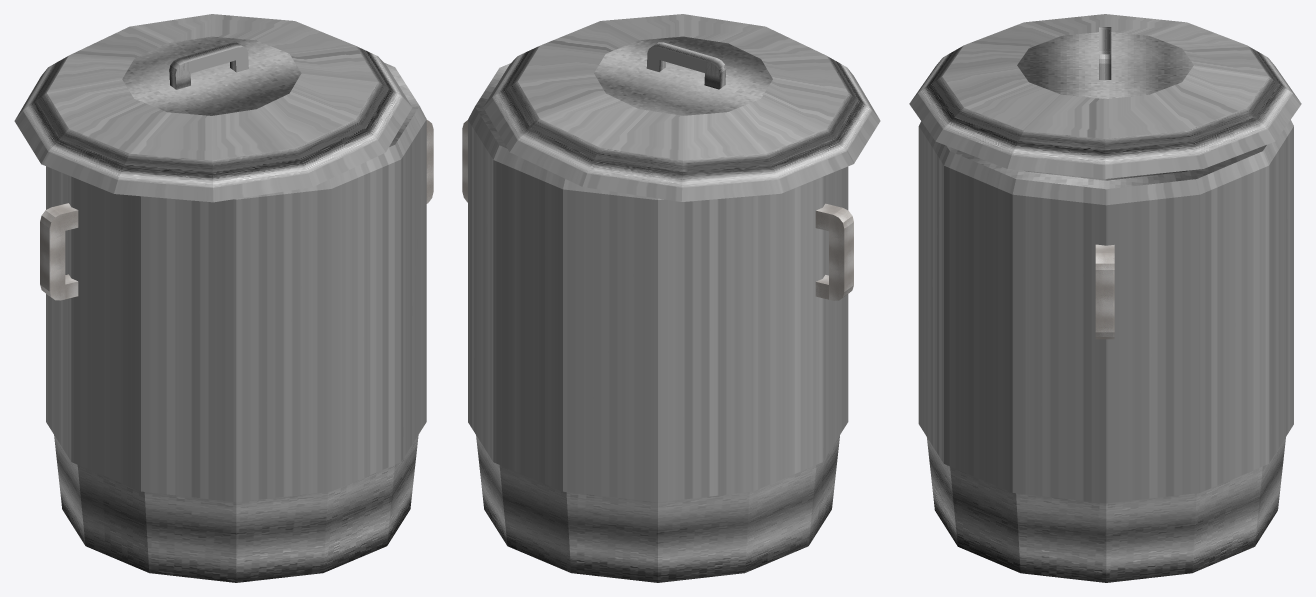
File: metal bin.fbx
3 renders of one model, left to right at view 1: azimuth 30°, elevation 25°; view 2: azimuth 150°, elevation 25°; view 3: azimuth 270°, elevation 25°, orthographic.
Visible parts, largest first — view 1: Cylinder, Cylinder.001, Cube.001, Cube.002; view 2: Cylinder, Cylinder.001, Cube.001; view 3: Cylinder, Cylinder.001, Cube.002.
Part boxes in pixels (x1=…): Cylinder: x1=46, y1=63, x2=426, y2=582; Cylinder.001: x1=14, y1=14, x2=412, y2=202; Cube.001: x1=40, y1=203, x2=78, y2=300; Cube.002: x1=426, y1=119, x2=433, y2=203; Cylinder: x1=468, y1=63, x2=848, y2=582; Cylinder.001: x1=483, y1=14, x2=880, y2=201; Cube.001: x1=815, y1=203, x2=853, y2=300; Cylinder: x1=918, y1=120, x2=1293, y2=582; Cylinder.001: x1=909, y1=14, x2=1301, y2=178; Cube.002: x1=1095, y1=244, x2=1114, y2=339.
Size of the model in its own units: 2.29 by 2.63 by 2.04.
Materials: 3 (3 with a texture image).
